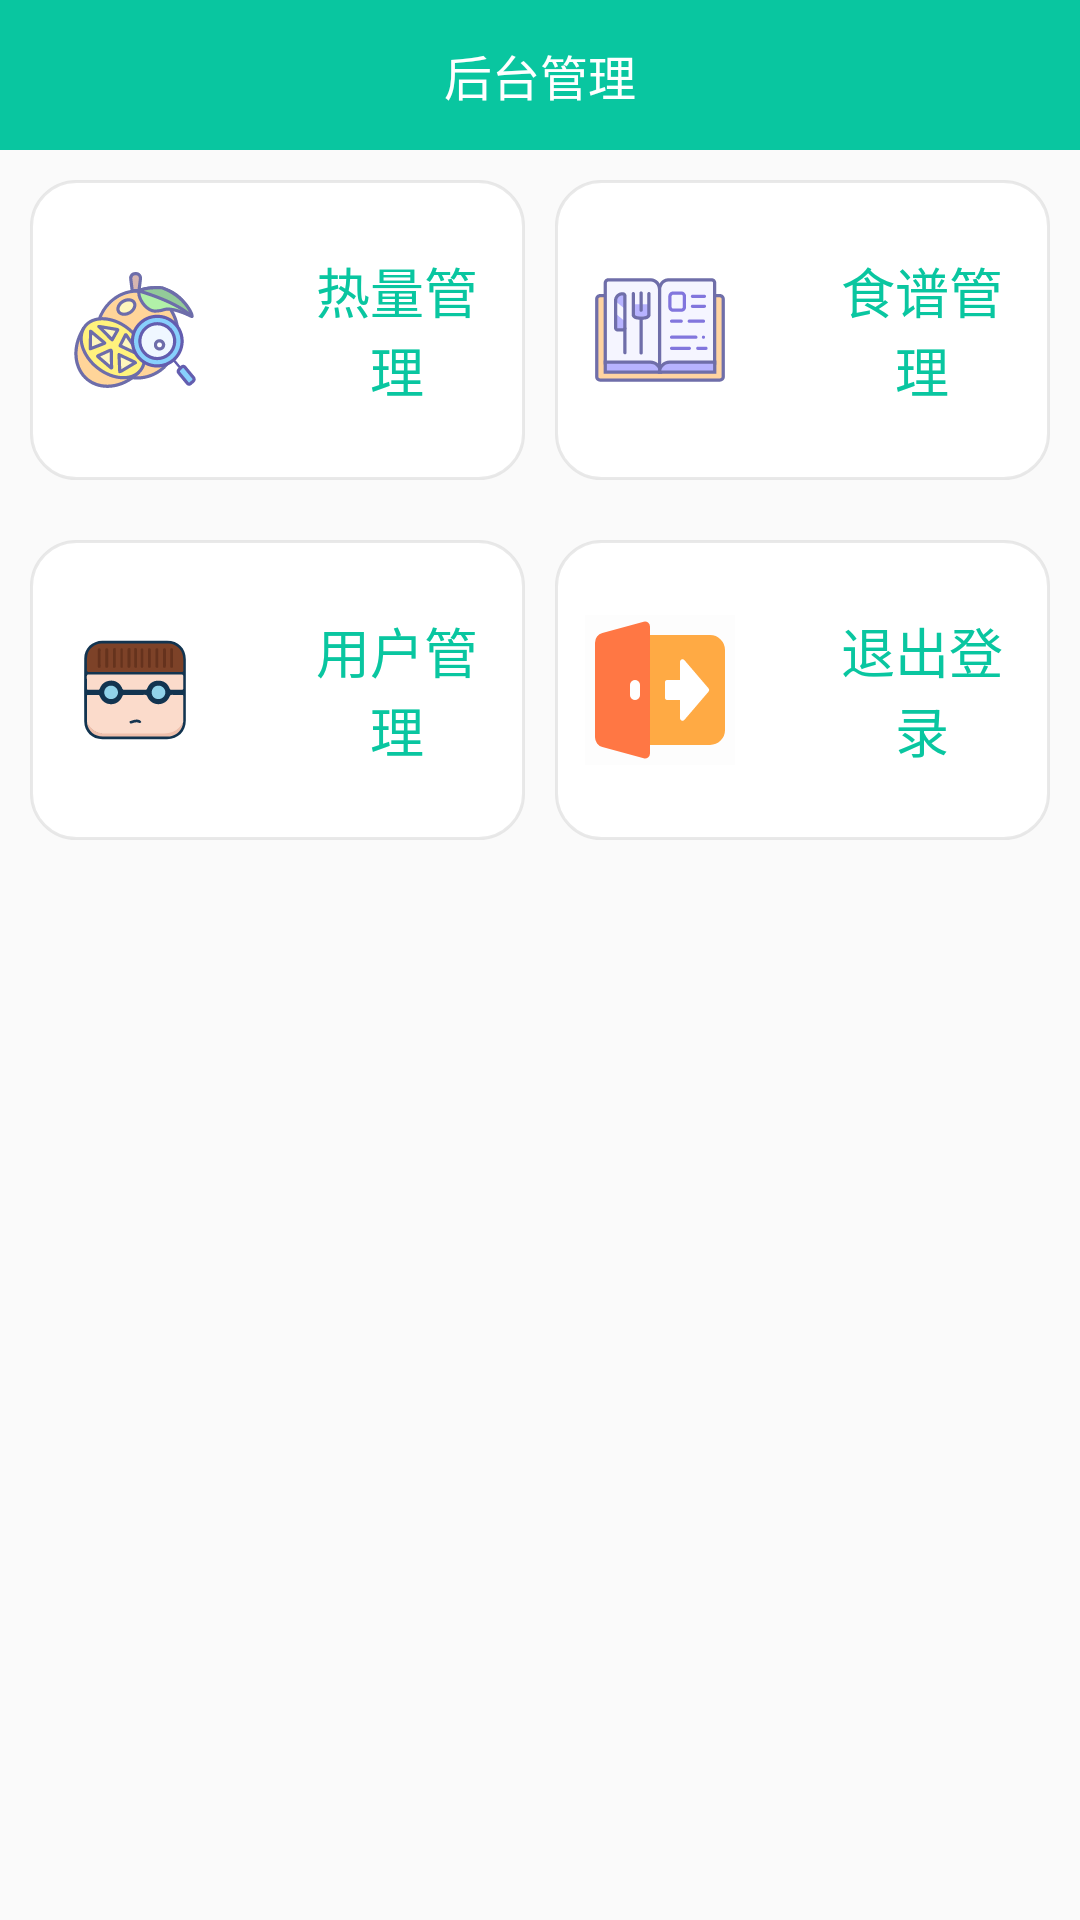

Screen size 1080*1920. Icon name, then its center in pixels as point (x, y):
out: point (660, 690)
